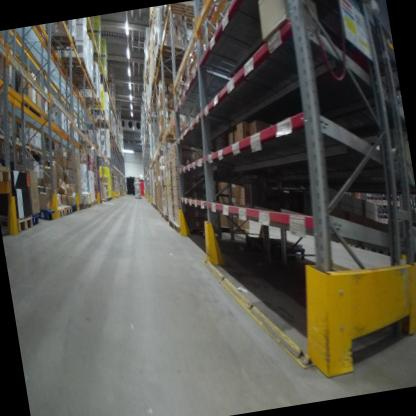pallet: (172, 213, 221, 242), (161, 1, 203, 26), (41, 27, 79, 54), (0, 210, 36, 236), (154, 38, 188, 60), (54, 50, 86, 72), (214, 221, 250, 238), (157, 126, 181, 144), (36, 204, 55, 222), (0, 155, 12, 182), (54, 203, 67, 219), (30, 210, 43, 225), (63, 203, 73, 215), (167, 218, 175, 231), (70, 204, 78, 215)
